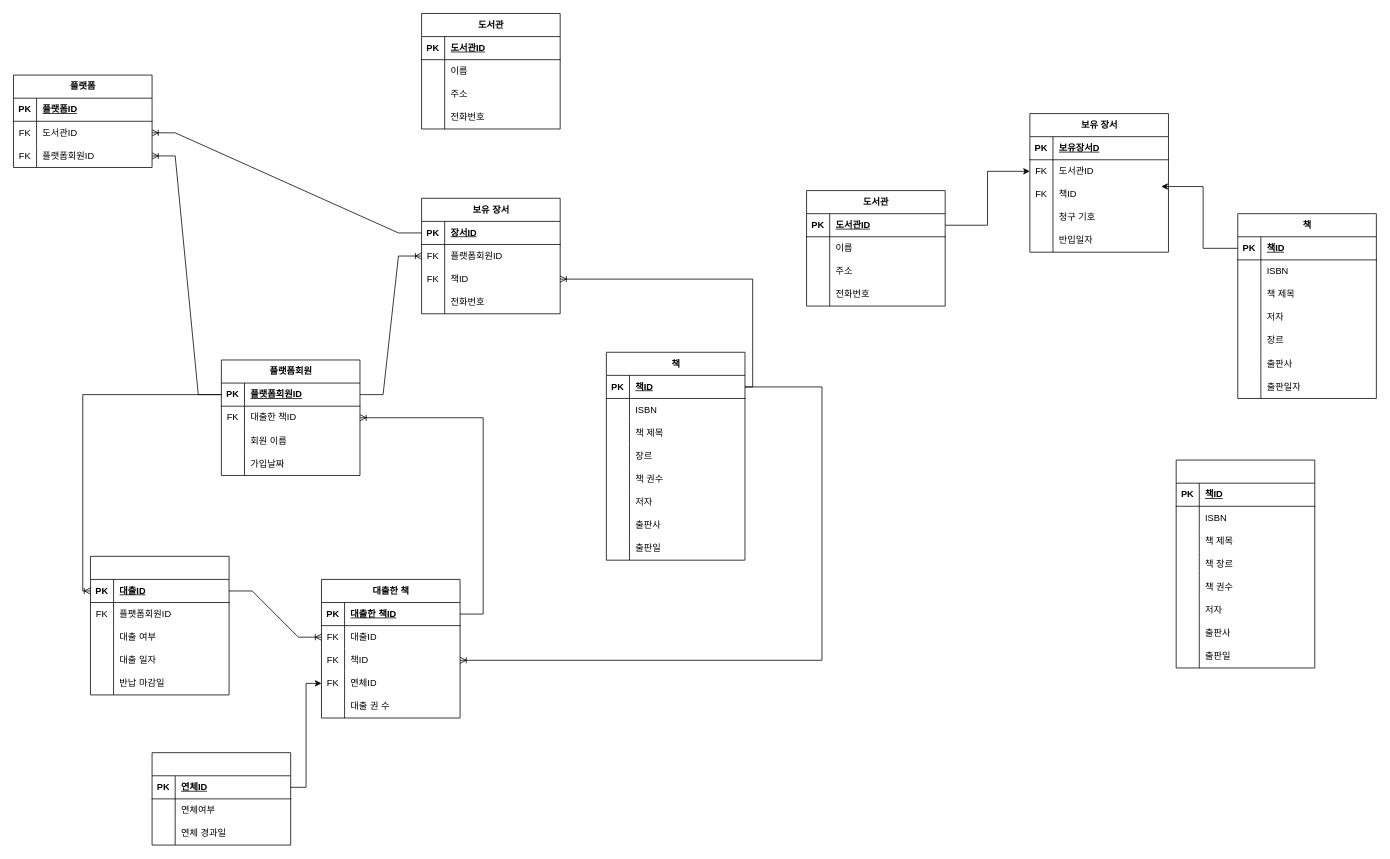
Image size: 1390x859. Some labels were removed from this diagram. Each missing label, with the box of its shape:
대출: (90, 556, 229, 695)
도서관 책: (1175, 459, 1315, 668)
연체: (151, 752, 291, 845)
